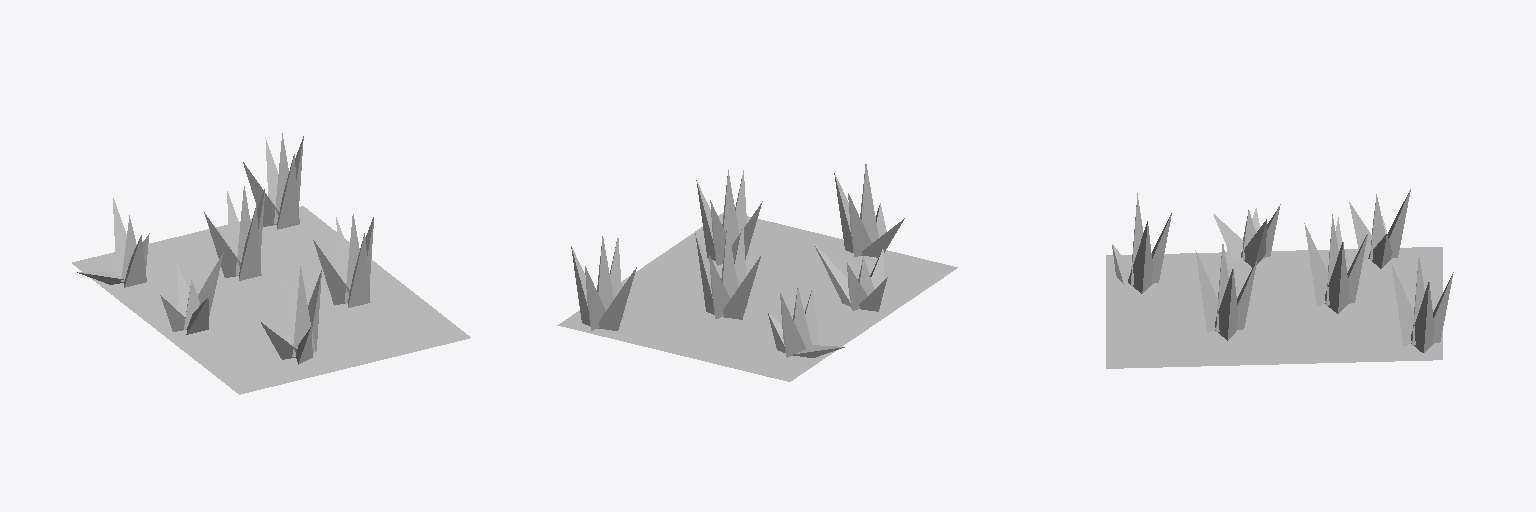
The model's file is Pasto.obj.
3 renders of one model, left to right at view 1: azimuth 30°, elevation 25°; view 2: azimuth 150°, elevation 25°; view 3: azimuth 270°, elevation 25°, orthographic.
Visible parts, largest first — view 1: Plane.001_Plane.002; view 2: Plane.001_Plane.002; view 3: Plane.001_Plane.002.
Part boxes in pixels (bbox=[...]): Plane.001_Plane.002: bbox=[72, 133, 470, 394]; Plane.001_Plane.002: bbox=[557, 164, 957, 381]; Plane.001_Plane.002: bbox=[1106, 189, 1453, 368].
Size of the model in its own units: 3.34 by 1.24 by 3.9.